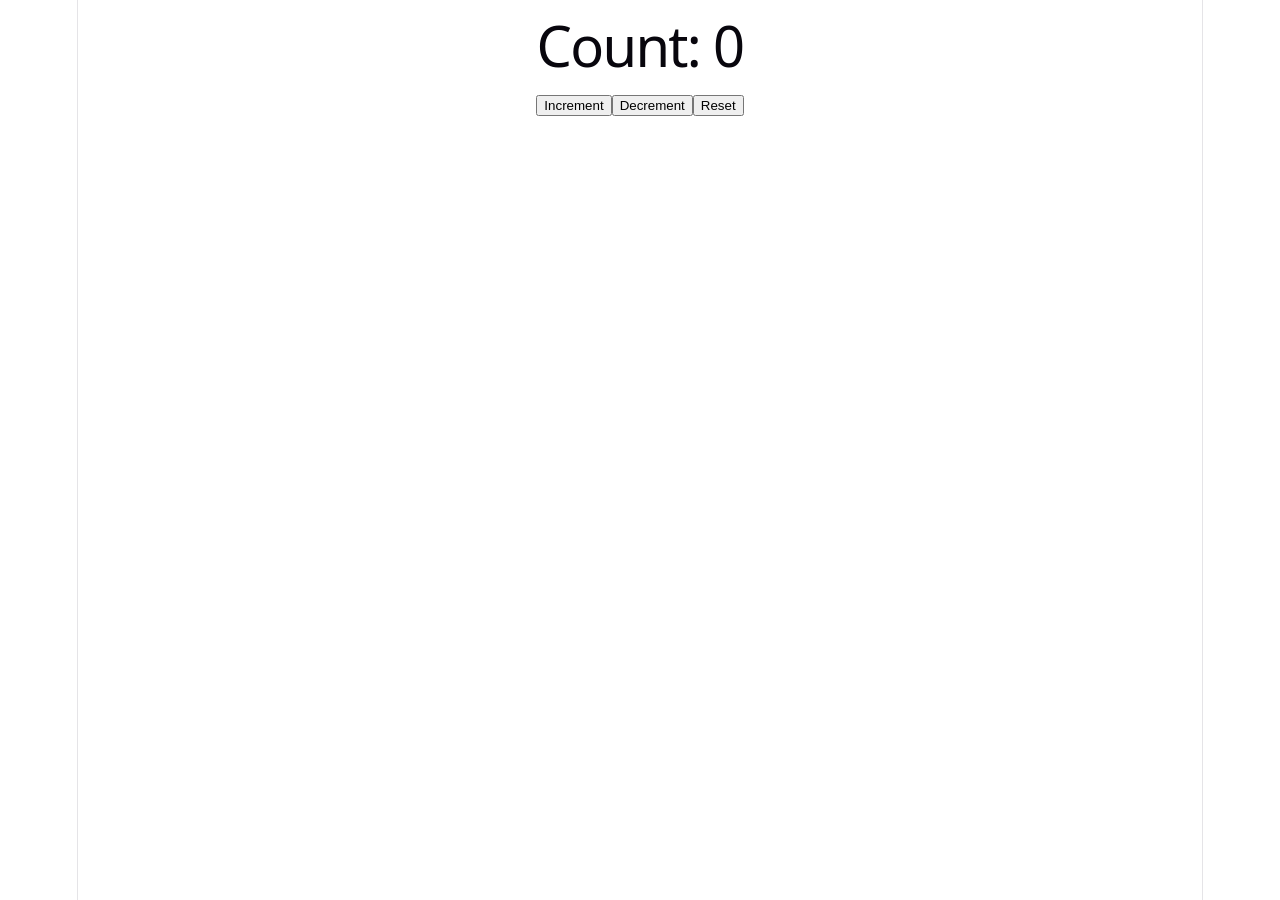
Counter Application Tests › decrements count from 0 to -1
The width and height of the screenshot is (1280, 900).
Click the button "Decrement" at (652, 106), box [612,95,693,116]
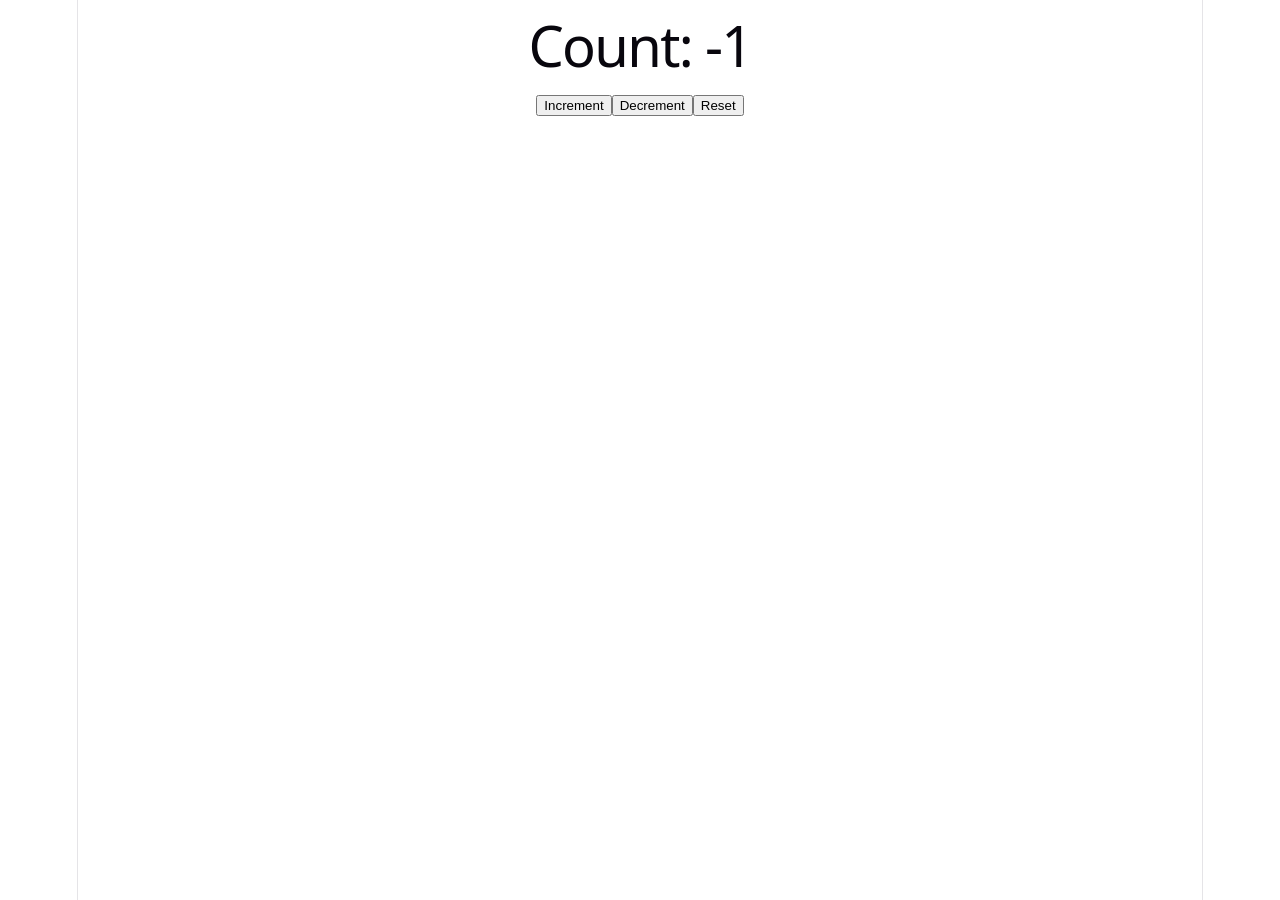
Expected: the heading "Count: -1" is shown, [528,7,752,83]
